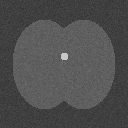nodule: (58, 52, 68, 63)
